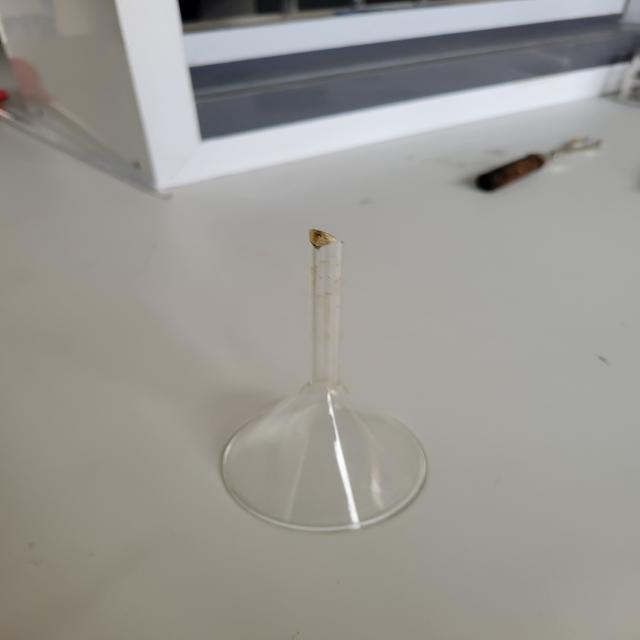Funnel: (176, 188, 489, 551)
